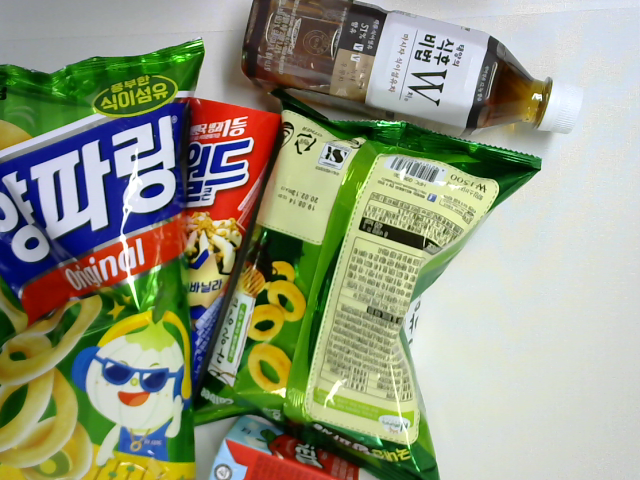Grilled_Onions: (188, 87, 544, 480)
Oninon_Ring: (1, 36, 211, 480)
Picnic_Apple: (206, 415, 362, 480)
Post-meal_recipe_W_tea_500ml: (236, 1, 587, 143)
World_Cone_Banila: (180, 94, 283, 413)
